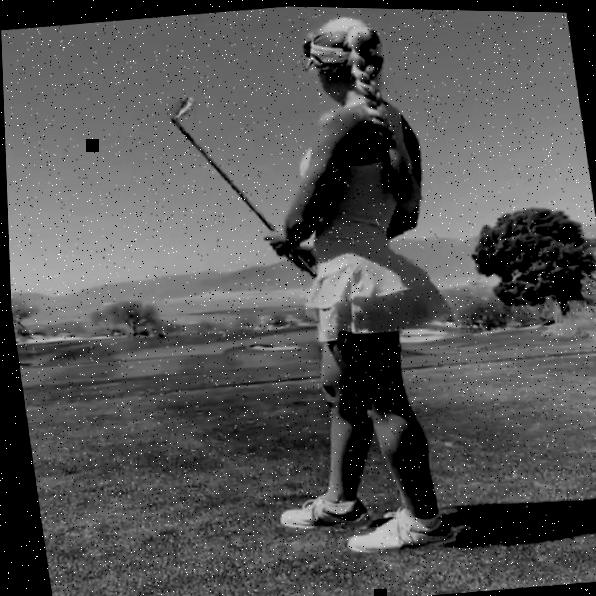ClubHead: (166, 94, 194, 120)
